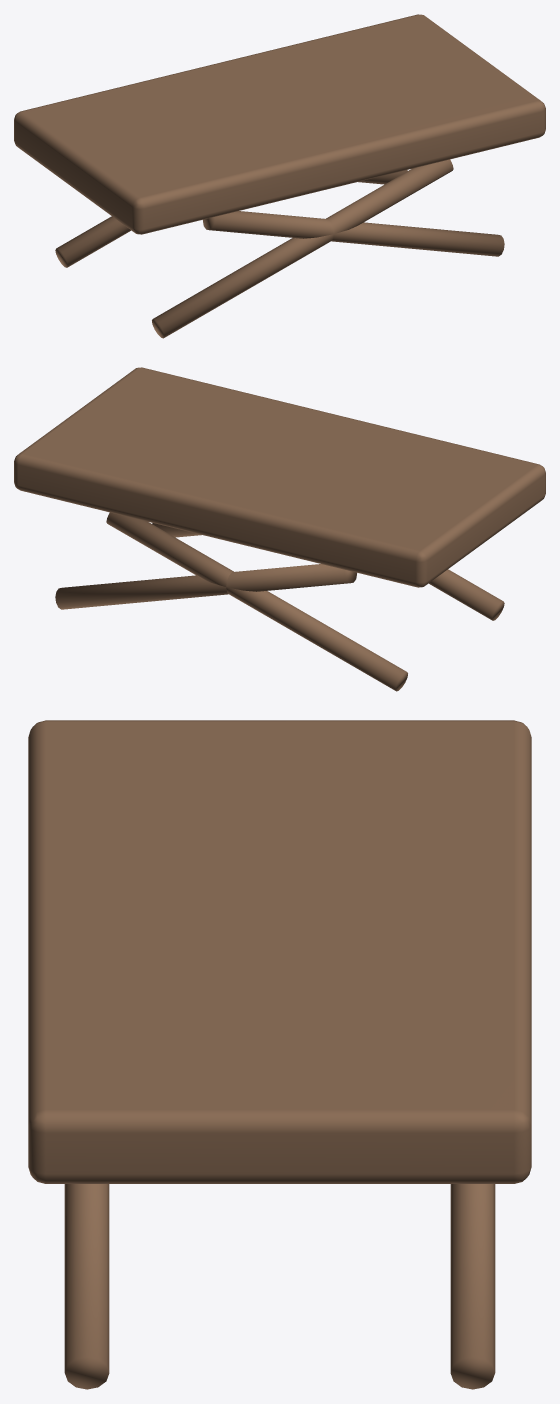
The model's file is mesa-de-centro-elo.glb.
3 views of the same model, one above another, from view 1: azimuth 30°, elevation 25°; view 2: azimuth 150°, elevation 25°; view 3: azimuth 270°, elevation 25° (orthographic). The views are drawn at different scales.
Visible parts, largest first — view 1: Tampo em madeira, Pé cruzado, Pé cruzado.002, Pé cruzado.001; view 2: Tampo em madeira, Pé cruzado.001, Pé cruzado.003, Pé cruzado; view 3: Tampo em madeira, Pé cruzado.002, Pé cruzado.003.
Part boxes in pixels (x1=…): Tampo em madeira: x1=14, y1=14, x2=545, y2=234; Pé cruzado: x1=152, y1=159, x2=453, y2=338; Pé cruzado.002: x1=203, y1=211, x2=504, y2=256; Pé cruzado.001: x1=55, y1=216, x2=130, y2=267; Tampo em madeira: x1=14, y1=367, x2=545, y2=587; Pé cruzado.001: x1=106, y1=512, x2=407, y2=691; Pé cruzado.003: x1=55, y1=564, x2=356, y2=609; Pé cruzado: x1=429, y1=569, x2=504, y2=620; Tampo em madeira: x1=28, y1=720, x2=531, y2=1183; Pé cruzado.002: x1=64, y1=1184, x2=109, y2=1389; Pé cruzado.003: x1=450, y1=1184, x2=495, y2=1389.
Bounding box in the file's own units: 1.07 × 0.3838 × 0.564.
